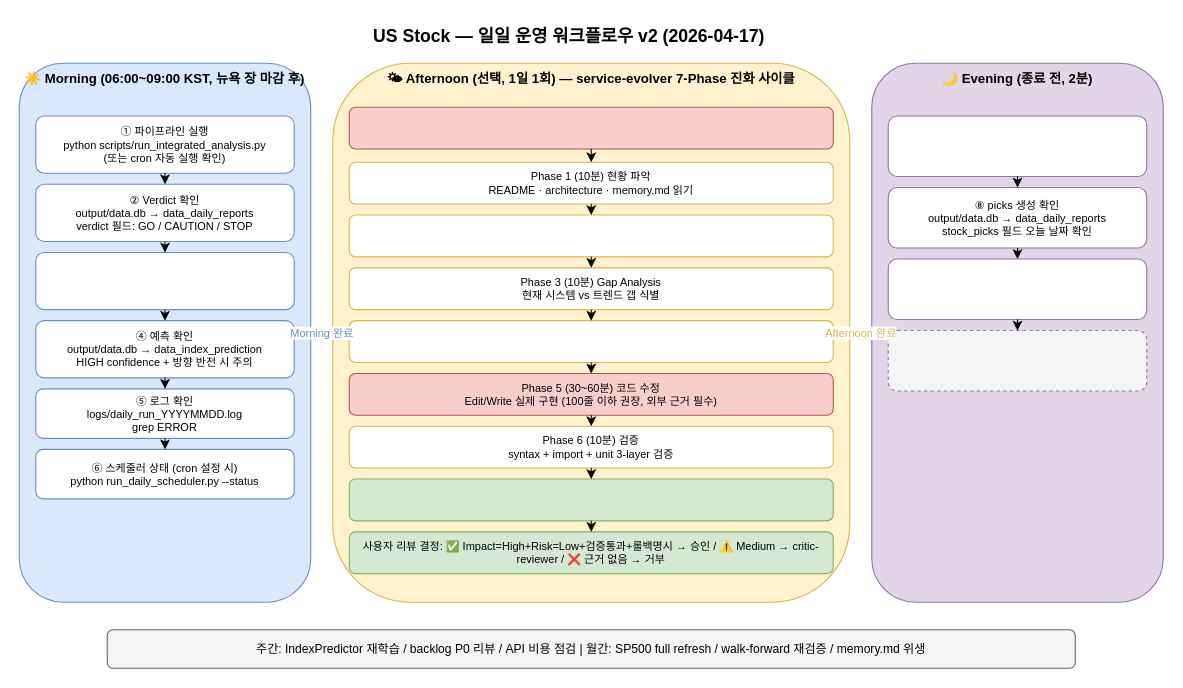
Some shapes in this 1183 by 688 pixel diagram are drawn without their labels. Each missing label, with the centre of its shape:
"(주 1회) 대시보드 스크린샷 http://localhost:3000 TradingView 링크 동작 확인" goes at point 1017,360.
"@service-evolver 오늘의 evolution cycle 실행해줘" goes at point 590,127.
"Phase 2 (15분) 트렌드 리서치 WebSearch — 24시간 내 퀀트·논문 스캔" goes at point 590,235.
"Phase 4 (5분) 개선 선정 Impact/Effort/Risk → 오늘 1건 선정" goes at point 590,341.
"Phase 7 (5분) 문서 갱신 memory.md + backlog.md + 사이클 로그 생성" goes at point 590,499.
"③ 체제 변경 확인 output/data.db → data_regime_snapshot neutral→risk_off 전환 주목" goes at point 164,280.
"⑦ daily_report 확인 output/data.db → data_daily_reports 오늘 날짜 행이 생성됐는지" goes at point 1017,146.
"⑨ prediction_history 누적 확인 output/data.db → data_prediction_history 어제보다 +1 행인지" goes at point 1017,289.
